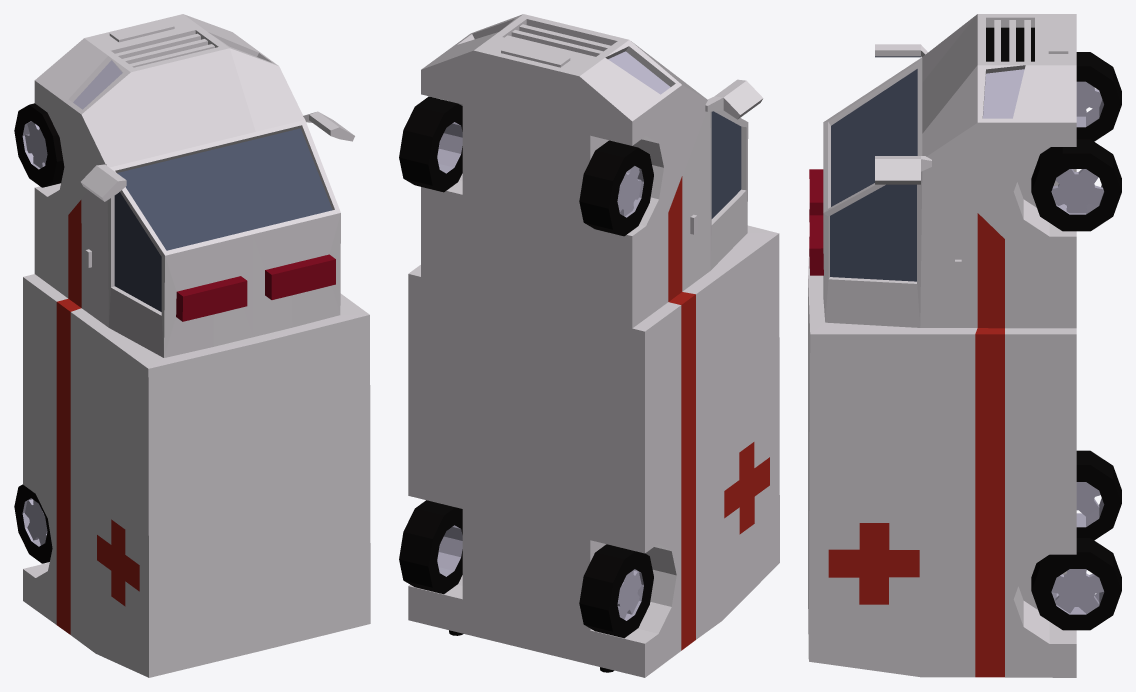
Rendered from Ambulance.glb.
3 views of the same model, side by side, from view 1: azimuth 30°, elevation 25°; view 2: azimuth 150°, elevation 25°; view 3: azimuth 270°, elevation 25° (orthographic). The views are drawn at different scales.
Visible parts, largest first — view 1: Mesh_0; view 2: Mesh_0; view 3: Mesh_0.
Part boxes in pixels (x1,y1,x2,y2): Mesh_0: (14, 14, 370, 677); Mesh_0: (399, 14, 779, 677); Mesh_0: (808, 14, 1121, 677).
Bounding box in the file's own units: 2.81 × 5.91 × 2.85.
